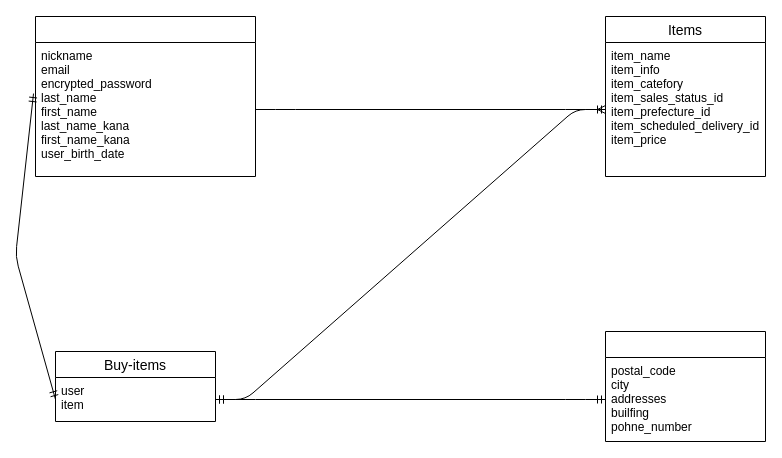
The diagram is 782 pixels wide and 458 high, and some of its shapes have lost their labels. The box of each missing label's shape, as (x1, y1, x2, y2) in pixels:
Pay_form: (604, 330, 766, 442)
Users: (34, 16, 256, 176)
